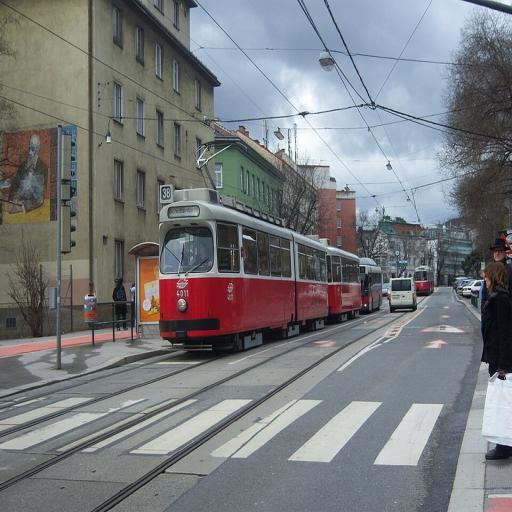E2-Tram: (158, 183, 385, 359)
